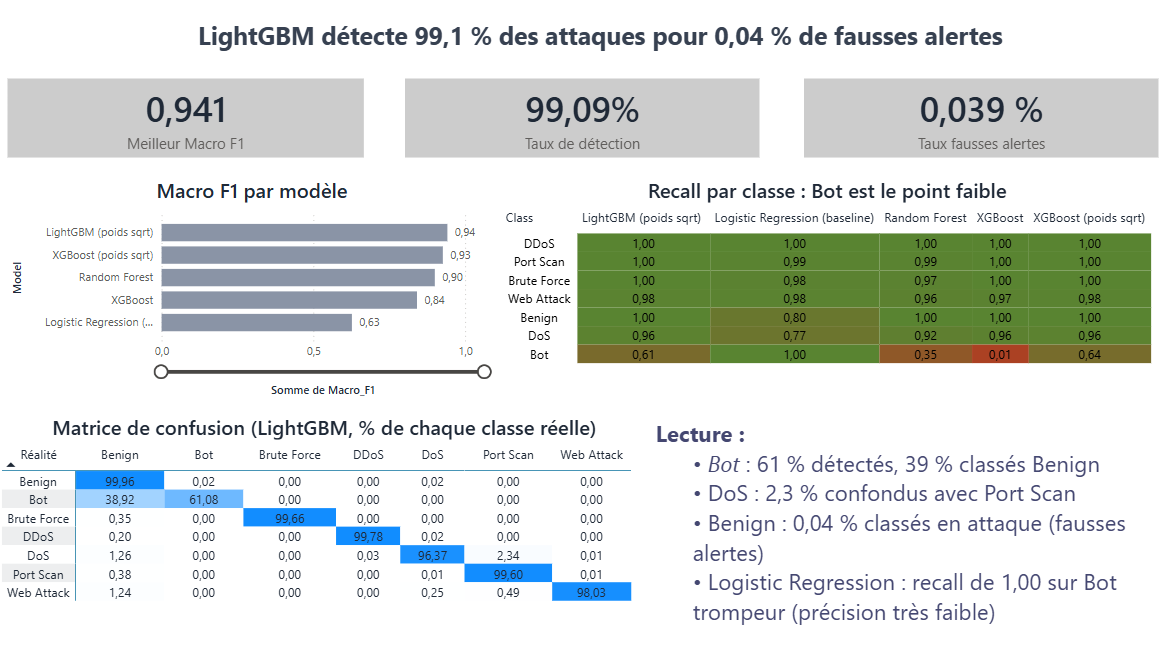

The dashboard page shown, as its layout file describes it:
{"tool":"powerbi","page":{"name":"Performance ML","canvas":[1280,720],"ordinal":2},"visuals":[{"type":"card","fields":{"Values":["model_results.Meilleur Macro F1"]},"box":[18.2,101.3,384.8,85.1],"z":0},{"type":"card","fields":{"Values":["binary_detection.Taux de détection"]},"box":[447.6,101.3,382.8,85.1],"z":1000},{"type":"card","fields":{"Values":["binary_detection.Taux fausses alertes"]},"box":[877,101.3,382.8,85.1],"z":2000},{"type":"clusteredBarChart","title":"Macro F1 par modèle","fields":{"Category":["model_results.Model"],"Y":["Sum(model_results.Macro_F1)"]},"box":[17.8,207.3,527.9,239.6],"z":3000},{"type":"pivotTable","title":"Recall par classe : Bot est le point faible","fields":{"Rows":["per_class_metrics.Class"],"Columns":["per_class_metrics.Model"],"Values":["Sum(per_class_metrics.Recall)"]},"box":[545.7,207.3,714.1,239.6],"z":4000},{"type":"pivotTable","title":"Matrice de confusion (LightGBM, % de chaque classe réelle)","fields":{"Values":["Sum(confusion_matrix.Pct_of_Actual)"],"Rows":["confusion_matrix.Actual"],"Columns":["confusion_matrix.Predicted"]},"box":[6.1,463.8,706.8,239],"z":5000},{"type":"textbox","box":[164.1,32.4,988.4,46.6],"z":6000},{"type":"textbox","box":[712.9,463.8,546.8,239],"z":7000}]}

Visuals, with their boxes in screenshot pixels (x1, y1, x2, y2), scaled from the page's 1280x720 canvas onto the 1168x645 screenshot:
card - model_results.Meilleur Macro F1: bbox=[17, 91, 368, 167]
card - binary_detection.Taux de détection: bbox=[408, 91, 758, 167]
card - binary_detection.Taux fausses alertes: bbox=[800, 91, 1150, 167]
"Macro F1 par modèle" clusteredBarChart: bbox=[16, 186, 498, 400]
"Recall par classe : Bot est le point faible" pivotTable: bbox=[498, 186, 1150, 400]
"Matrice de confusion (LightGBM, % de chaque classe réelle)" pivotTable: bbox=[6, 415, 651, 630]
textbox: bbox=[150, 29, 1052, 71]
textbox: bbox=[651, 415, 1149, 630]
